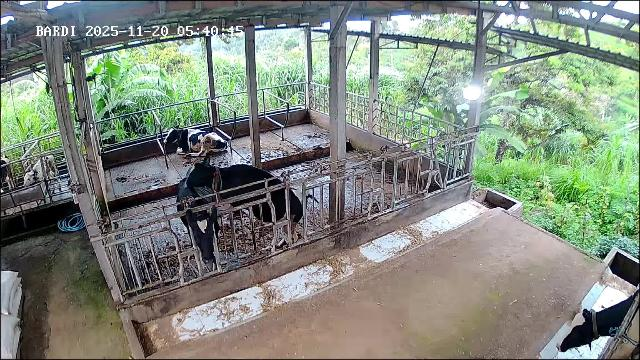mounting: (187, 155, 307, 248)
